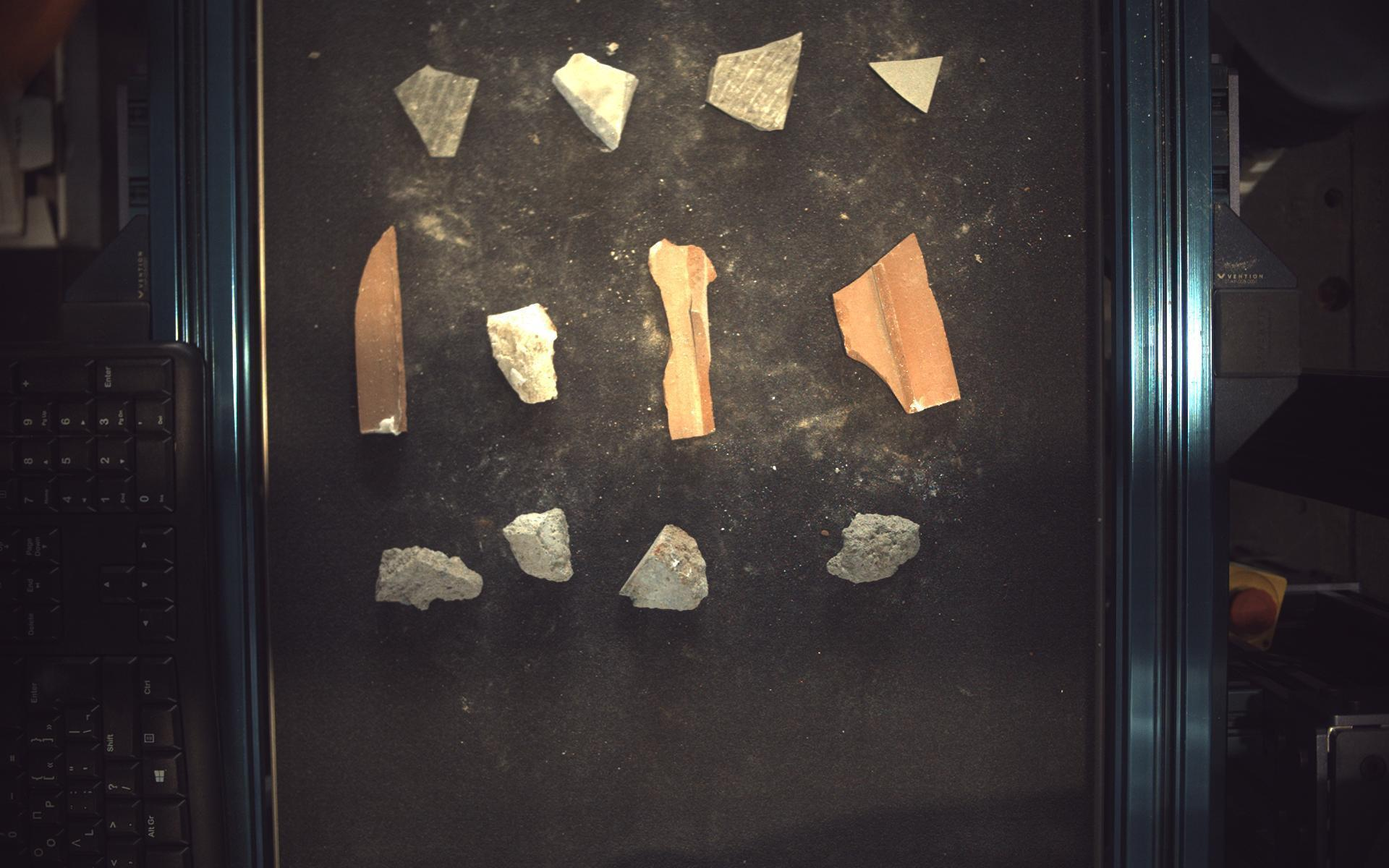brick: (835, 233, 962, 413), (649, 239, 718, 440), (354, 225, 407, 435), (487, 302, 558, 404)
concrete: (620, 525, 709, 611), (376, 547, 483, 610), (828, 514, 922, 584), (504, 509, 574, 583)
tile: (708, 30, 803, 129), (553, 51, 639, 149), (394, 64, 479, 156), (870, 55, 945, 112)
